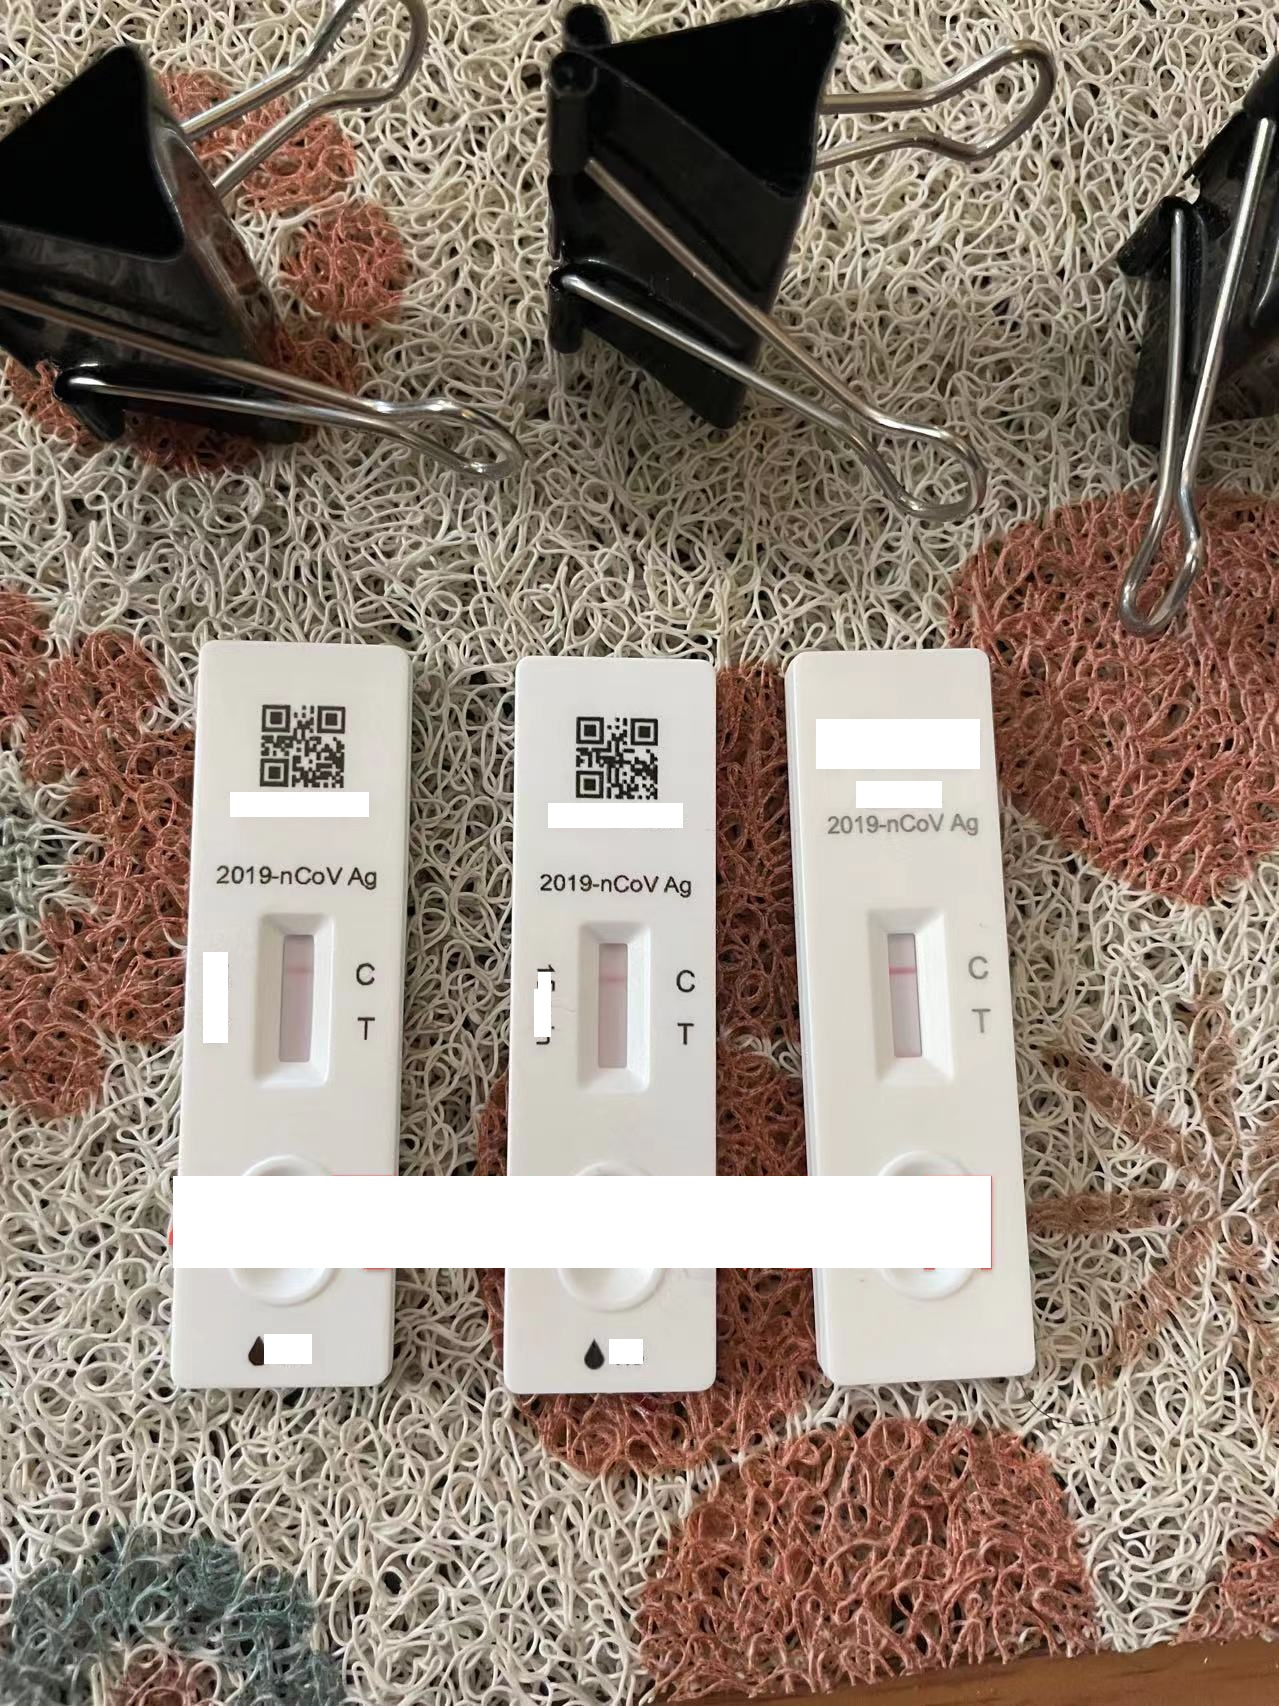negative: (867, 905, 943, 1076), (575, 923, 654, 1087), (254, 911, 328, 1079)
